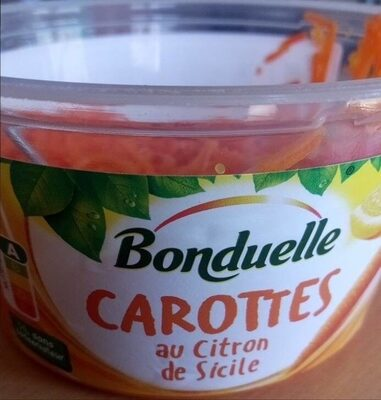Carottes rapees citron: (19, 20, 362, 380)
